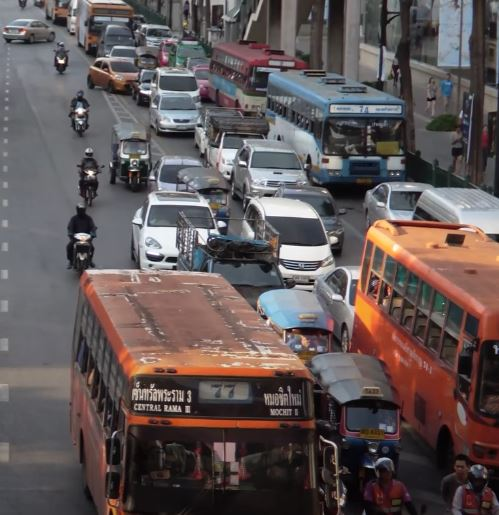Bus: (69, 268, 318, 515), (349, 218, 499, 477), (266, 69, 406, 190), (206, 40, 308, 122), (416, 188, 499, 249), (77, 1, 132, 53), (153, 67, 198, 106)
Car: (175, 211, 283, 300), (243, 195, 335, 291), (133, 192, 220, 269), (229, 139, 308, 201), (278, 183, 339, 244), (204, 117, 264, 178), (315, 266, 358, 351), (362, 181, 430, 224), (149, 156, 203, 197), (150, 92, 201, 133), (86, 56, 137, 94), (4, 19, 57, 45), (99, 24, 133, 54), (171, 41, 205, 70), (141, 24, 173, 47), (133, 67, 154, 101)
Motorcycle: (64, 202, 100, 271), (76, 146, 102, 208), (68, 88, 90, 135), (52, 42, 70, 74)
TukTuk: (308, 351, 401, 488), (256, 288, 333, 365), (176, 167, 233, 234), (108, 122, 156, 191)
